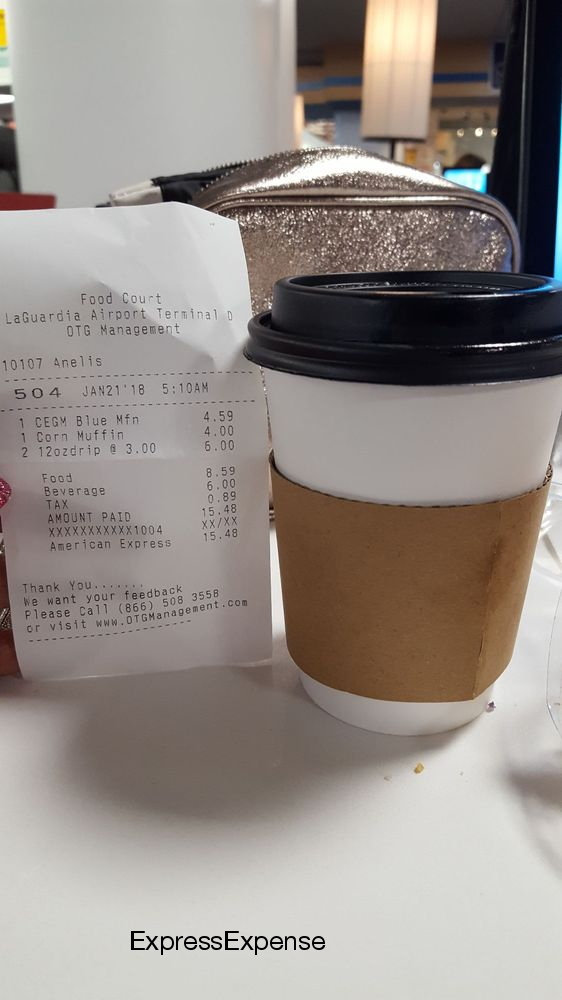Additional details: (10, 575, 261, 657)
Purchase summary: (1, 355, 253, 552)
Receipt: (1, 199, 283, 685)
Shop details: (1, 288, 237, 351)
